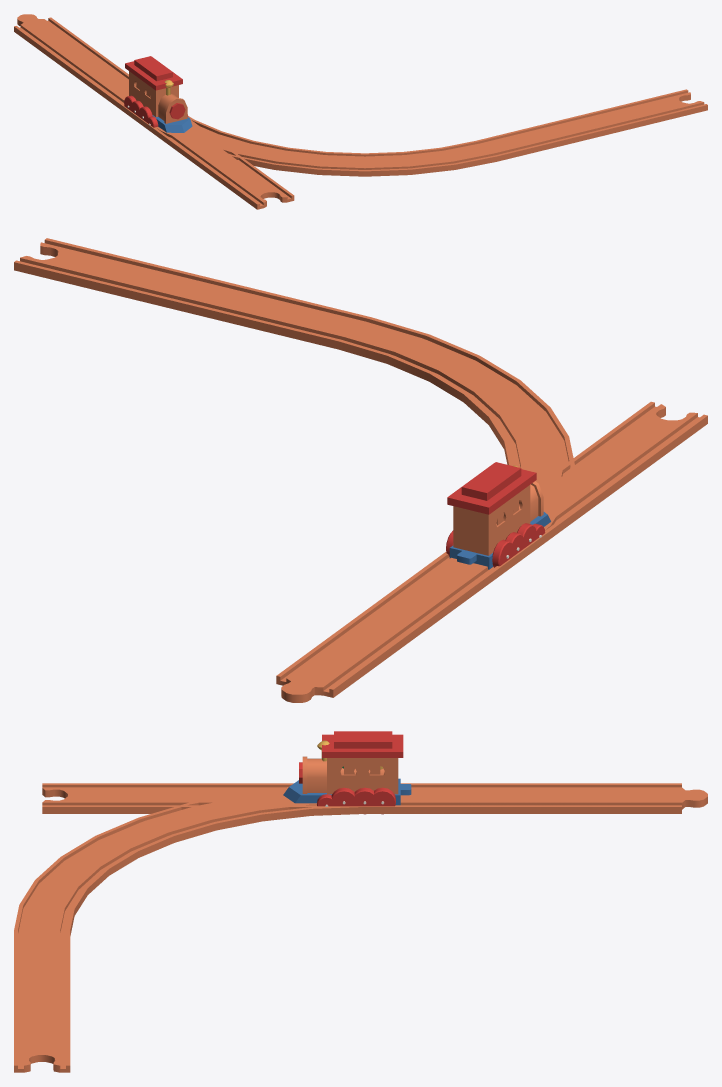
File: WoodenTrain_01.fbx
The picture shows the model from 3 angles, top to bottom: view 1: azimuth 30°, elevation 25°; view 2: azimuth 150°, elevation 25°; view 3: azimuth 270°, elevation 25°; orthographic projection. The views are drawn at different scales.
Parts seen in each view (by area): view 1: WoodenTrain_01_Road_90d, WoodenTrain_01_Road_Straight, WoodenTrain_01_Wagon_02, WoodenTrain_01_Front, WoodenTrain_01_Wagon_01; view 2: WoodenTrain_01_Road_90d, WoodenTrain_01_Road_Straight, WoodenTrain_01_Wagon_02, WoodenTrain_01_Wagon_01, WoodenTrain_01_Front; view 3: WoodenTrain_01_Road_90d, WoodenTrain_01_Road_Straight, WoodenTrain_01_Wagon_02, WoodenTrain_01_Front, WoodenTrain_01_Wagon_01.
Boxes of the visible parts, <box> form: WoodenTrain_01_Road_90d: <box>17,14,707,176</box>; WoodenTrain_01_Road_Straight: <box>14,14,294,209</box>; WoodenTrain_01_Wagon_02: <box>125,56,182,116</box>; WoodenTrain_01_Front: <box>131,67,192,132</box>; WoodenTrain_01_Wagon_01: <box>124,83,178,122</box>; WoodenTrain_01_Road_90d: <box>14,238,575,702</box>; WoodenTrain_01_Road_Straight: <box>276,401,707,702</box>; WoodenTrain_01_Wagon_02: <box>447,462,536,554</box>; WoodenTrain_01_Wagon_01: <box>446,503,536,569</box>; WoodenTrain_01_Front: <box>458,465,550,557</box>; WoodenTrain_01_Road_90d: <box>14,783,707,1072</box>; WoodenTrain_01_Road_Straight: <box>42,783,707,813</box>; WoodenTrain_01_Wagon_02: <box>322,731,403,794</box>; WoodenTrain_01_Front: <box>283,740,384,814</box>; WoodenTrain_01_Wagon_01: <box>324,766,411,814</box>.
Size of the model in its own units: 1.88 by 0.2073 by 1.95.
